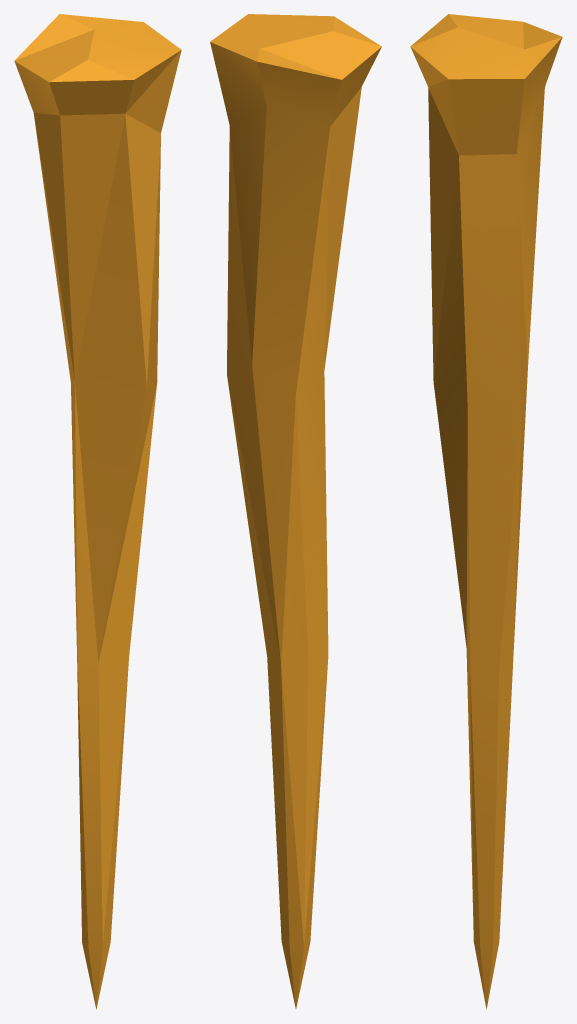
The model's file is SM_Icicle_C.fbx.
The picture shows the model from 3 angles, left to right: view 1: azimuth 30°, elevation 25°; view 2: azimuth 150°, elevation 25°; view 3: azimuth 270°, elevation 25°; orthographic projection.
Visible parts, largest first — view 1: icicle-c; view 2: icicle-c; view 3: icicle-c.
Boxes of the visible parts, bbox=[...] form: icicle-c: bbox=[14, 14, 181, 1009]; icicle-c: bbox=[210, 14, 381, 1008]; icicle-c: bbox=[410, 14, 562, 1009].
Size of the model in its own units: 0.3413 by 2.38 by 0.3373.
